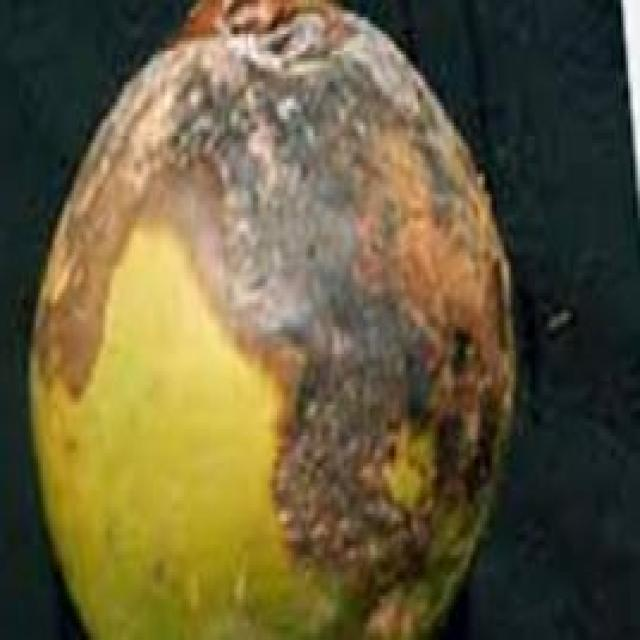damaged: (24, 0, 528, 637)
